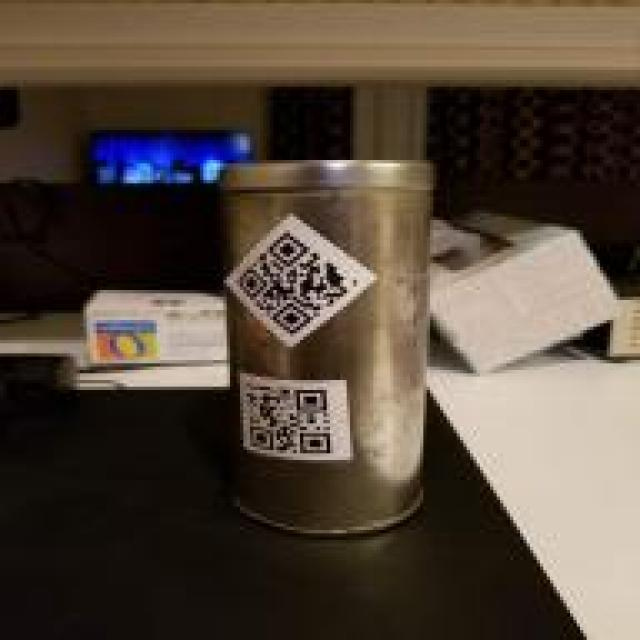qr_code: (237, 232, 357, 334), (246, 384, 331, 455)
